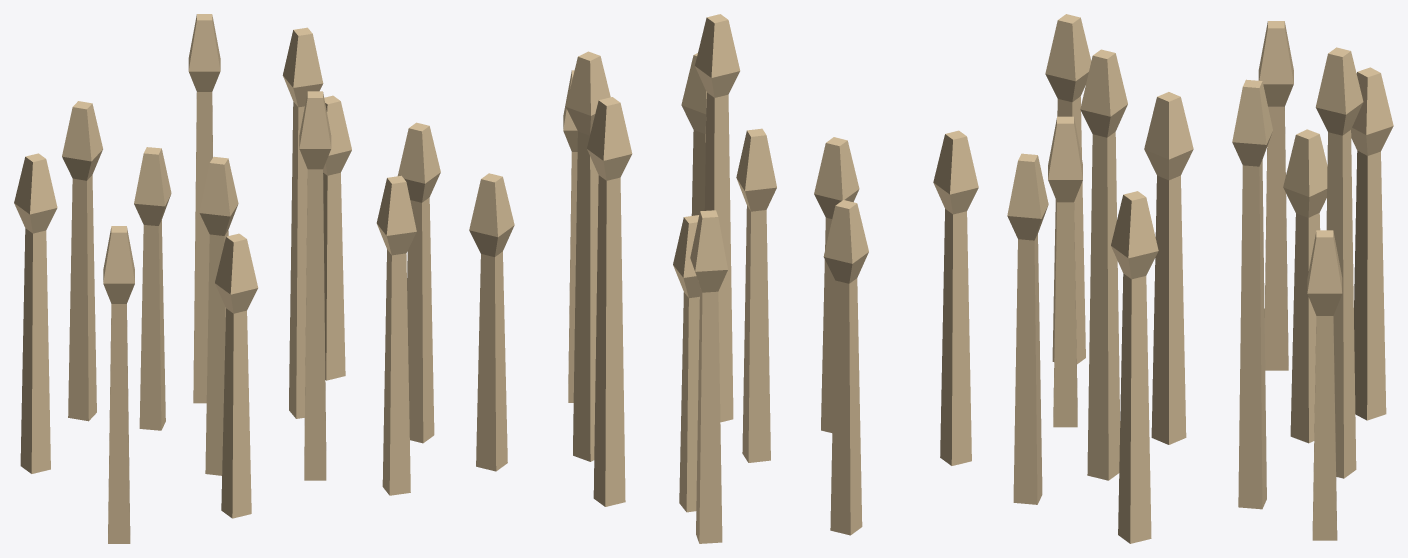
Rendered from nature_wheat.glb.
3 views of the same model, side by side, from view 1: azimuth 30°, elevation 25°; view 2: azimuth 150°, elevation 25°; view 3: azimuth 270°, elevation 25° (orthographic). The views are drawn at different scales.
Visible parts, largest first — view 1: crops_wheatStageB; view 2: crops_wheatStageB; view 3: crops_wheatStageB.
Boxes of the visible parts, x1,y1,x2,y2 form: crops_wheatStageB: (14,14,440,543); crops_wheatStageB: (469,14,978,543); crops_wheatStageB: (1007,14,1393,543).
Size of the model in its own units: 0.9173 by 0.9094 by 0.7594.
